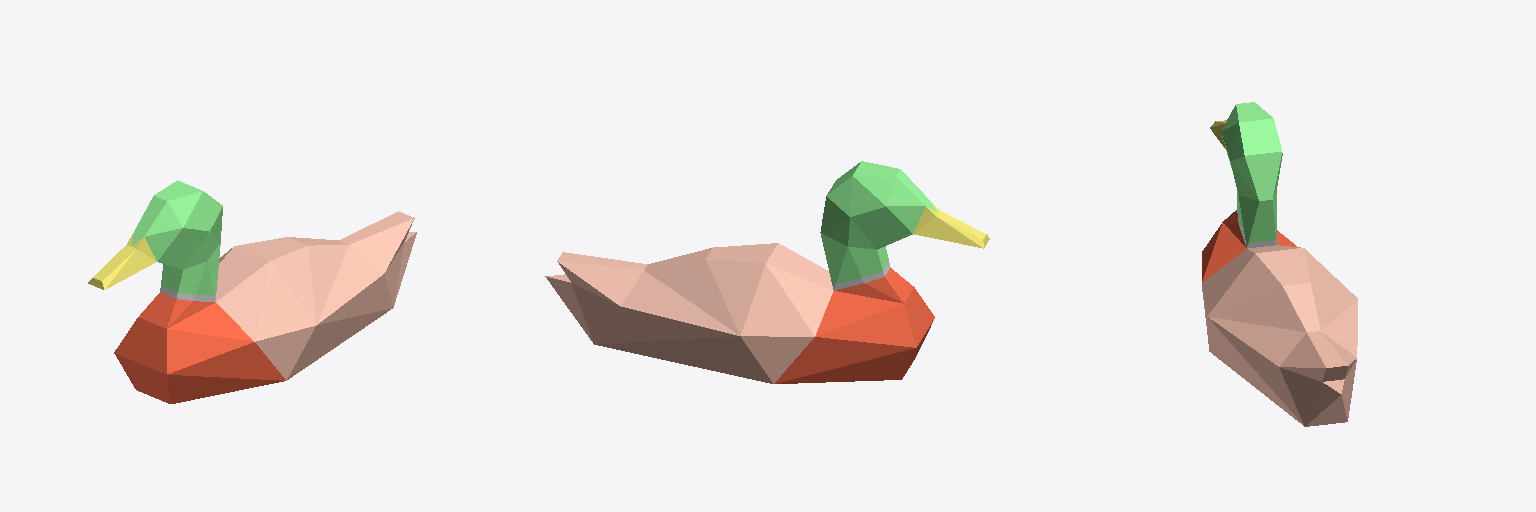
File: maleduckhover.obj
3 renders of one model, left to right at view 1: azimuth 30°, elevation 25°; view 2: azimuth 150°, elevation 25°; view 3: azimuth 270°, elevation 25°, orthographic.
Visible parts, largest first — view 1: Plane.005; view 2: Plane.005; view 3: Plane.005.
Part boxes in pixels (bbox=[...]): Plane.005: bbox=[88, 180, 416, 403]; Plane.005: bbox=[545, 161, 989, 383]; Plane.005: bbox=[1202, 102, 1357, 426].
Size of the model in its own units: 8.08 by 3.93 by 2.86.